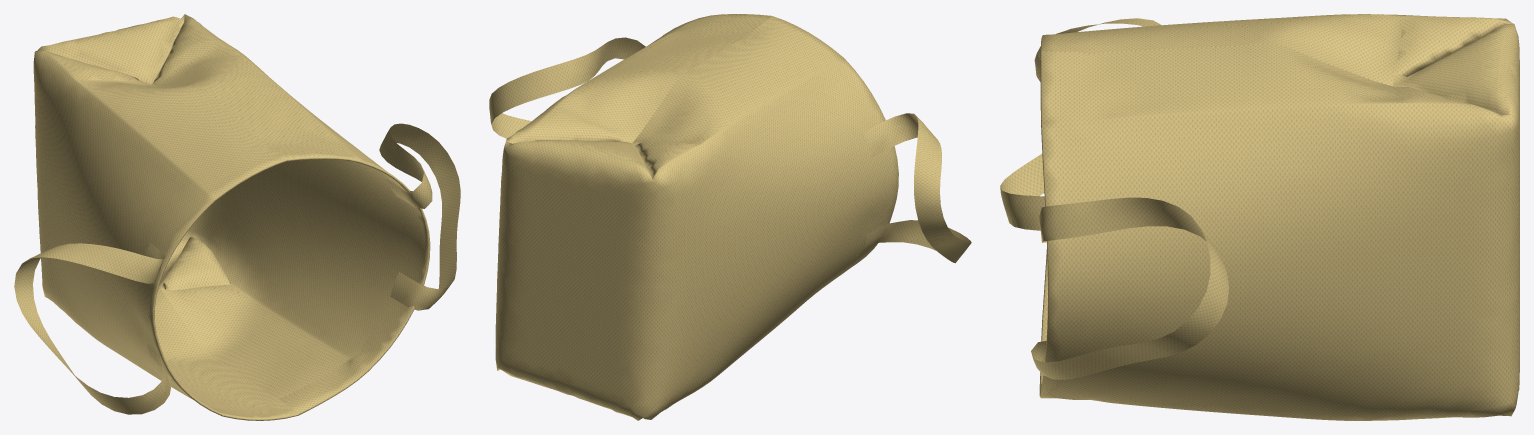
The model's file is nonwoven_5k.obj.
3 renders of one model, left to right at view 1: azimuth 30°, elevation 25°; view 2: azimuth 150°, elevation 25°; view 3: azimuth 270°, elevation 25°, orthographic. The views are drawn at different scales.
Parts seen in each view (by area): view 1: Garment; view 2: Garment; view 3: Garment.
Part boxes in pixels (left/top/right/bottom): Garment: left=14, top=14, right=460, bottom=420; Garment: left=489, top=14, right=971, bottom=420; Garment: left=1000, top=14, right=1519, bottom=420.
Size of the model in its own units: 0.3813 by 0.2218 by 0.301.
